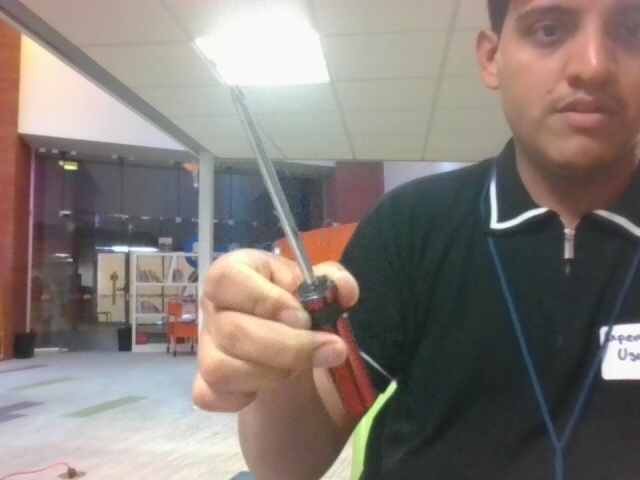destornillador: (222, 69, 377, 417)
